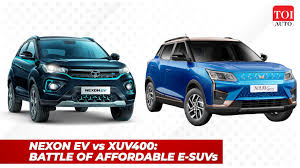XUV 400: (144, 33, 297, 127)
